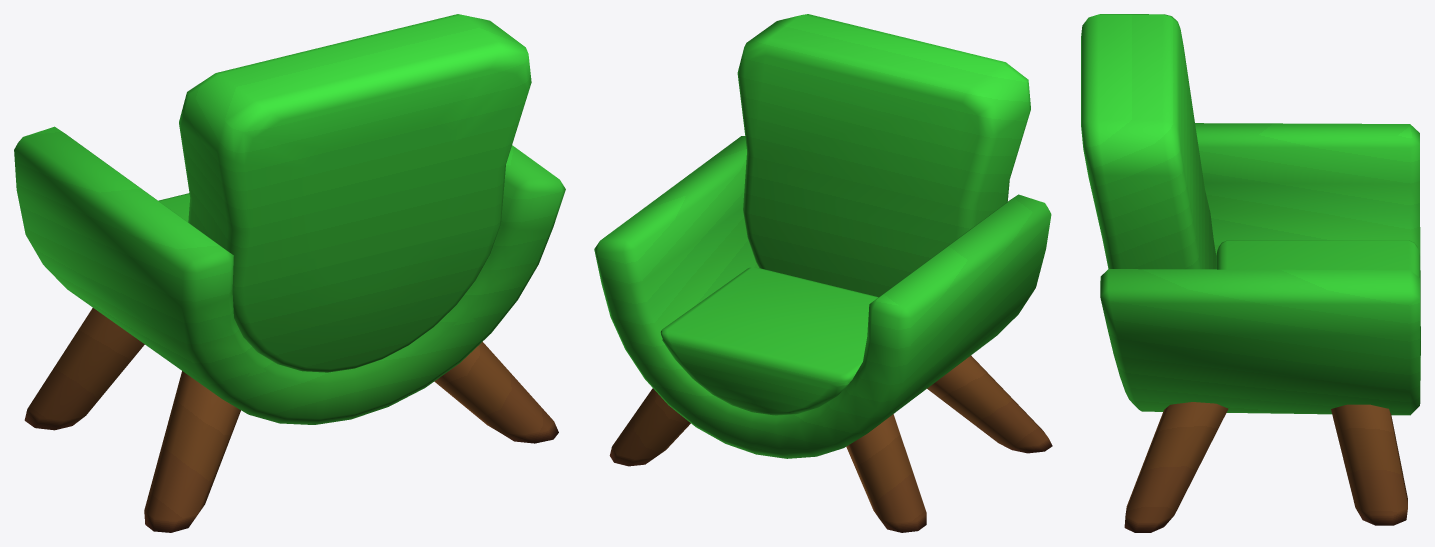
Rendered from Chair_Green.fbx.
3 renders of one model, left to right at view 1: azimuth 30°, elevation 25°; view 2: azimuth 150°, elevation 25°; view 3: azimuth 270°, elevation 25°, orthographic. The views are drawn at different scales.
Parts seen in each view (by area): view 1: Chair; view 2: Chair; view 3: Chair.
Part boxes in pixels (bbox=[...]): Chair: bbox=[14, 14, 565, 532]; Chair: bbox=[594, 14, 1052, 532]; Chair: bbox=[1081, 14, 1420, 532].
Bounding box in the file's own units: 93.55 × 94.76 × 76.57.
